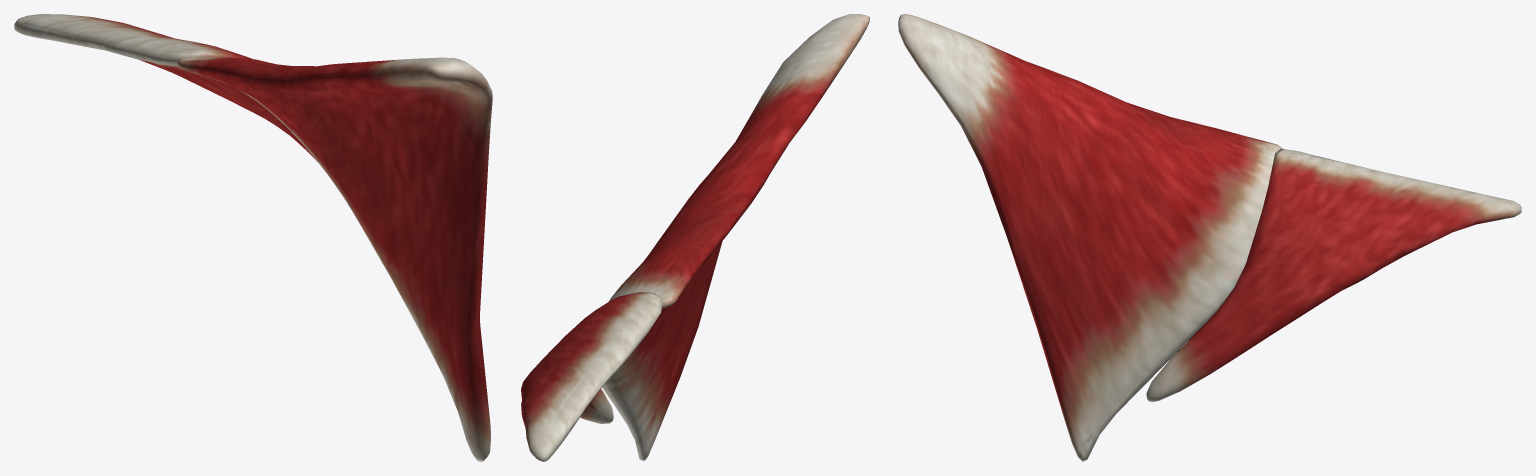
File: L Trapezius.fbx
3 views of the same model, side by side, from view 1: azimuth 30°, elevation 25°; view 2: azimuth 150°, elevation 25°; view 3: azimuth 270°, elevation 25° (orthographic). The views are drawn at different scales.
Visible parts, largest first — view 1: L Trapezius high, L Trapezius, L Trapezius low; view 2: L Trapezius, L Trapezius low, L Trapezius high; view 3: L Trapezius, L Trapezius low, L Trapezius high.
Boxes of the visible parts, bbox=[...] form: L Trapezius high: bbox=[18, 15, 490, 460]; L Trapezius: bbox=[14, 14, 492, 461]; L Trapezius low: bbox=[20, 15, 491, 458]; L Trapezius: bbox=[521, 14, 869, 461]; L Trapezius low: bbox=[521, 18, 869, 459]; L Trapezius high: bbox=[527, 14, 867, 454]; L Trapezius: bbox=[898, 14, 1521, 461]; L Trapezius low: bbox=[910, 37, 1520, 460]; L Trapezius high: bbox=[902, 15, 1518, 452].
Size of the model in its own units: 2.72 by 7.27 by 10.61.
